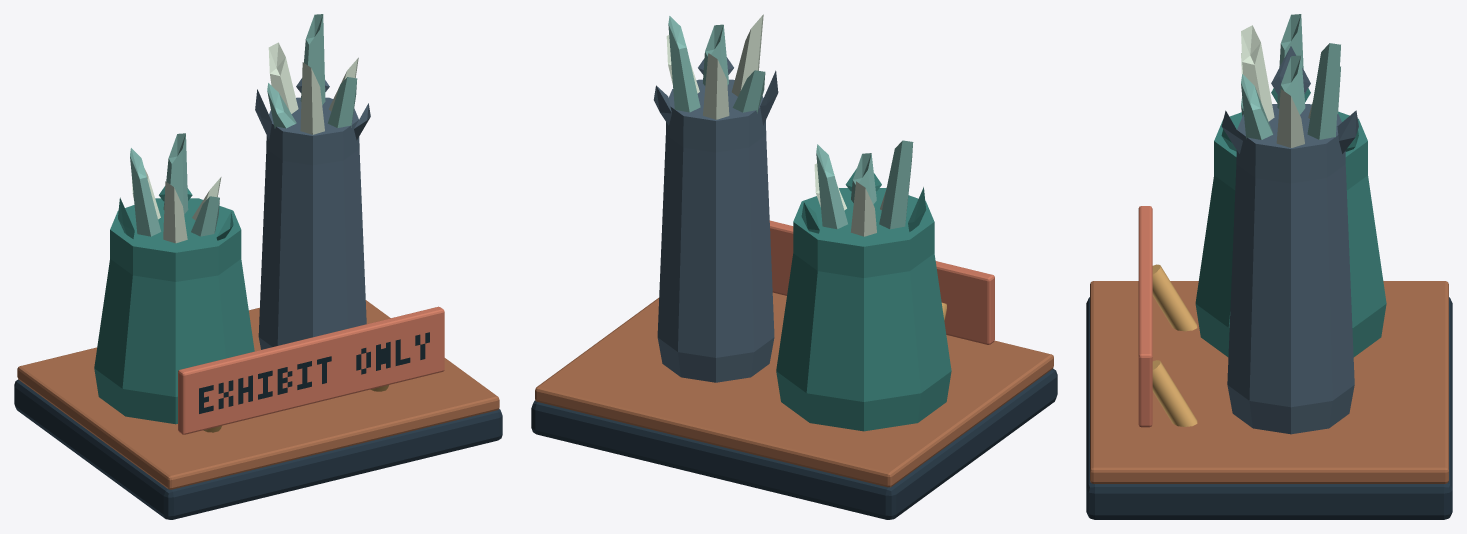
The picture shows the model from 3 angles, left to right: view 1: azimuth 30°, elevation 25°; view 2: azimuth 150°, elevation 25°; view 3: azimuth 270°, elevation 25°; orthographic projection. The views are drawn at different scales.
Parts seen in each view (by area): view 1: PR048 enamel and hardware; view 2: PR048 enamel and hardware; view 3: PR048 enamel and hardware.
Part boxes in pixels (x1,y1,x2,y2): PR048 enamel and hardware: [14, 14, 502, 519]; PR048 enamel and hardware: [531, 14, 1057, 519]; PR048 enamel and hardware: [1086, 14, 1452, 519].
Size of the model in its own units: 0.8109 by 0.85 by 0.6487.
